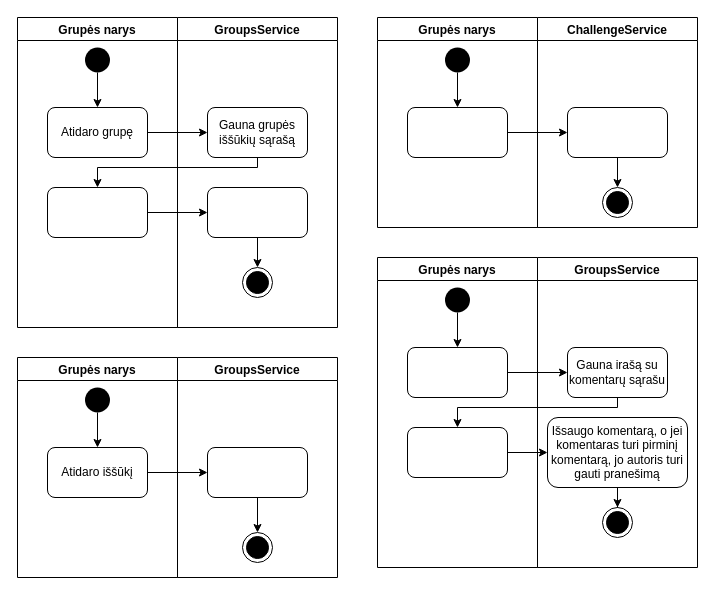
Some shapes in this 715 by 595 pixel diagram are drawn without their labels. The centre of each missing label's shape, as x and y in pixels:
"Atidaro irašą" goes at point (457, 372).
"Gauna ir rodo išsaugotą iššūkį" goes at point (257, 472).
"Išsaugo gautą įrašą Iššūkyje" goes at point (617, 132).
"Išsaugo naudotojo iššūkį" goes at point (257, 212).
"Pasirenka iššūkį" goes at point (97, 212).
"Rašo naują komentarą arba atsako į esamą" goes at point (457, 452).
"Sukuria naują įrašą" goes at point (457, 132).
